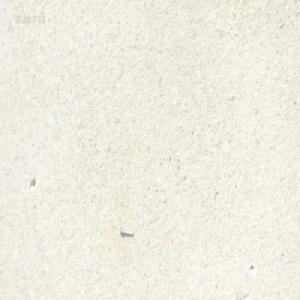Nail: (119, 226, 134, 236)
